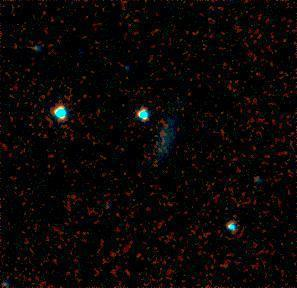star: (48, 79, 78, 109)
